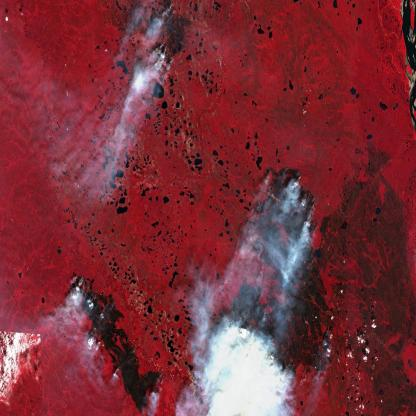fire: (193, 305, 302, 416), (239, 164, 324, 271), (62, 267, 122, 364), (124, 2, 182, 78)
